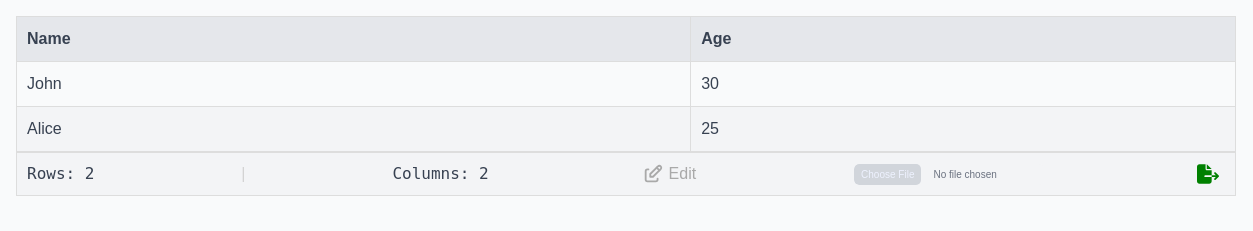
Test: DataGrid component › saves edits when save button is clicked
// Simulate clicking on the edit button to enable editing mode
Click the button with test id "edit-btn". click: coordinates (671, 174)
box: [636,157,707,191]
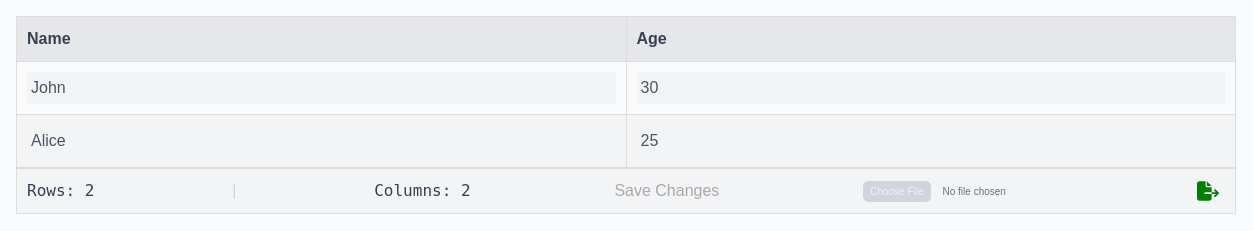
// Simulate typing into the cell (assuming it becomes an input field in editing mode)
Replace the text in the 1st field with "New Value". click: coordinates (321, 88)
box: [27,72,616,104]
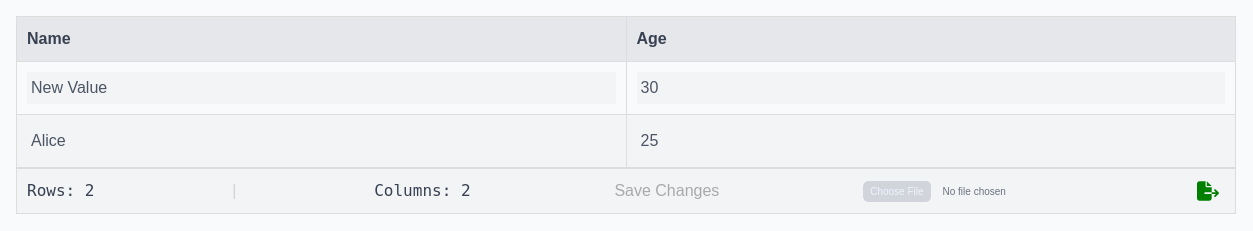
// Simulate clicking on the save button
Click the button with test id "edit-btn". click: coordinates (667, 191)
box: [608,173,725,209]
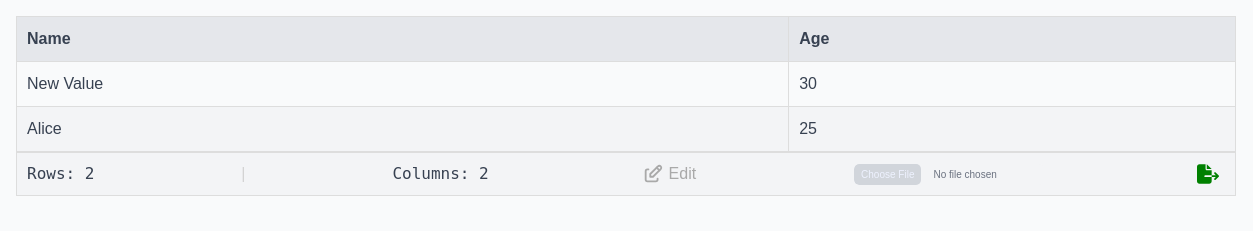
Check: the cell with test id "table-cell" reads "New Value", box [27,75,103,92]
